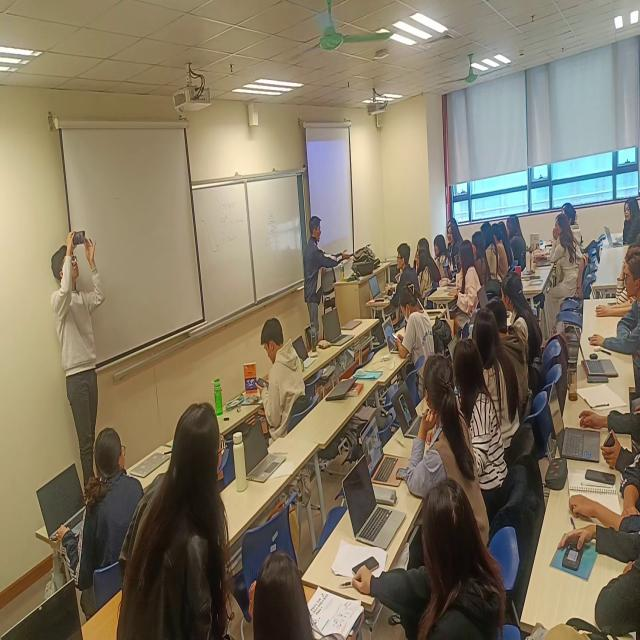raise_head: (351, 473, 504, 640), (396, 348, 497, 550), (450, 338, 512, 499), (248, 546, 347, 640), (469, 308, 525, 445), (499, 270, 544, 377), (447, 238, 484, 342), (383, 242, 424, 318), (614, 259, 640, 368), (615, 242, 640, 307), (562, 208, 585, 262), (433, 234, 457, 284), (415, 247, 437, 301), (445, 224, 468, 266), (417, 238, 437, 276), (447, 218, 459, 232), (562, 203, 574, 214)
stand: (114, 395, 234, 640), (44, 221, 109, 525), (299, 212, 356, 363)
using_computer: (33, 417, 156, 628), (531, 214, 587, 309), (603, 197, 640, 249)
using_phone: (557, 519, 640, 640), (249, 307, 314, 454), (389, 280, 438, 409)
